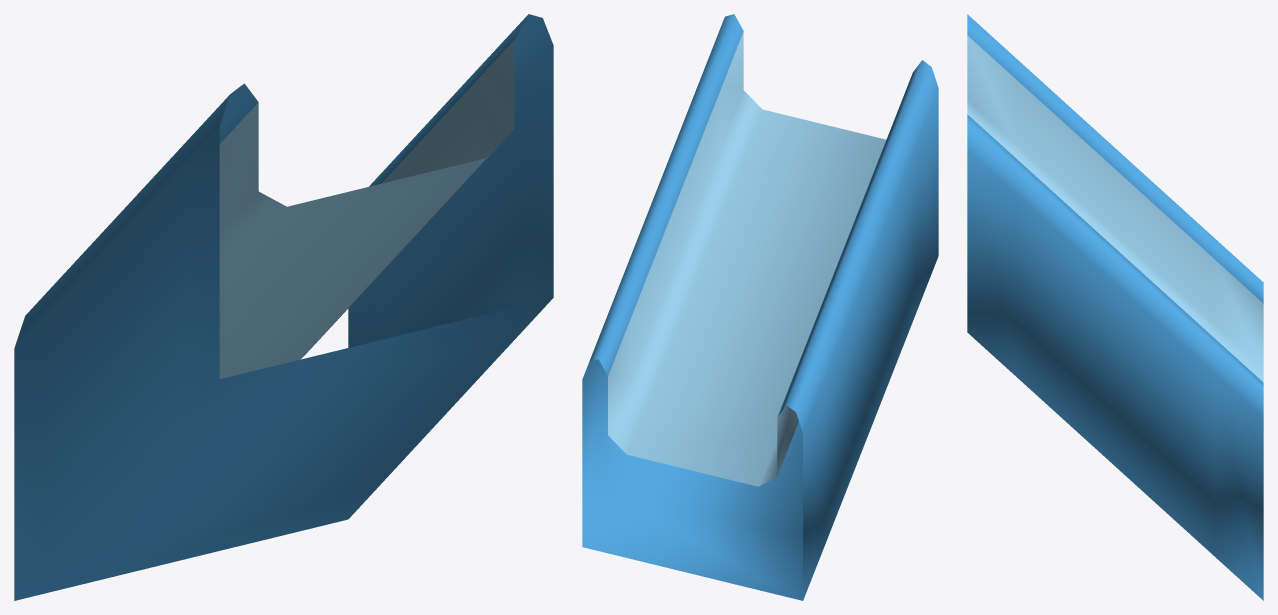
Rendered from slide.gltf.
3 renders of one model, left to right at view 1: azimuth 30°, elevation 25°; view 2: azimuth 150°, elevation 25°; view 3: azimuth 270°, elevation 25°, orthographic. The views are drawn at different scales.
Parts seen in each view (by area): view 1: slide; view 2: slide; view 3: slide.
Part boxes in pixels (x1=…): slide: x1=14, y1=14, x2=553, y2=600; slide: x1=582, y1=14, x2=938, y2=600; slide: x1=967, y1=14, x2=1263, y2=600.
Bounding box in the file's own units: 0.94 × 1.78 × 1.
